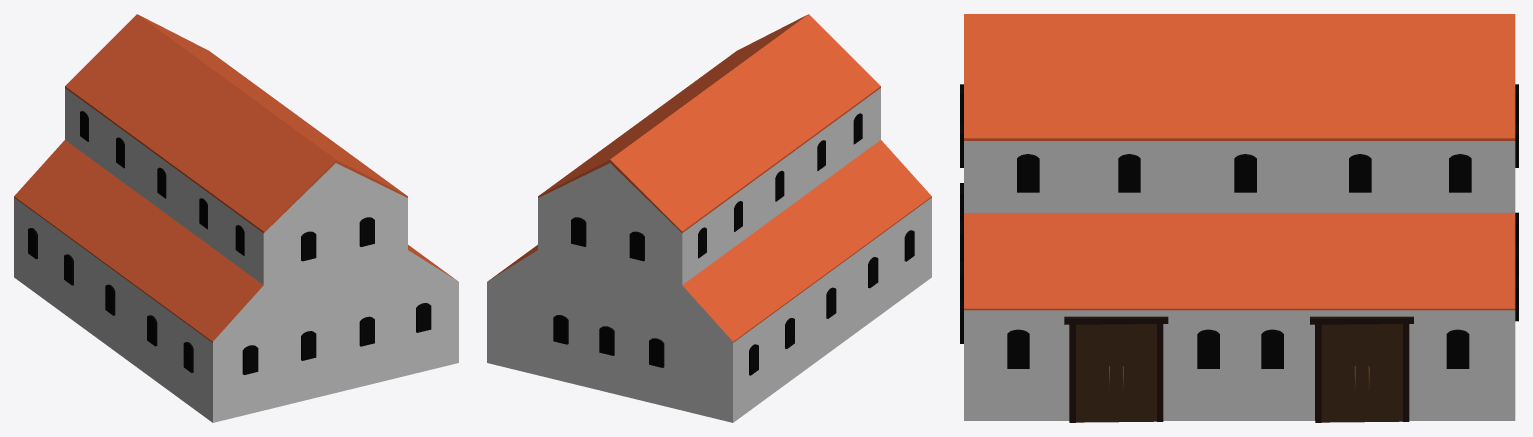
File: Roman10.fbx
3 views of the same model, side by side, from view 1: azimuth 30°, elevation 25°; view 2: azimuth 150°, elevation 25°; view 3: azimuth 270°, elevation 25° (orthographic). The views are drawn at different scales.
Visible parts, largest first — view 1: Cube.001, Cube.006, Cube, Cube.007, Cube.004, Cube.002, Cube.003; view 2: Cube.001, Cube.029, Cube.030, Cube.028, Cube.031, Cube.032; view 3: Cube.001, Cube.010, Cube.005, Cube.012, Cube.008, Cube.009, Cube.011, Cube.013, Cube.015, Cube.016, Cube.017, Cube.014.
Part boxes in pixels (x1,y1,x2,y2): Cube.001: (14,14,458,422); Cube.006: (242,345,258,374); Cube: (301,231,316,261); Cube.007: (416,303,431,332); Cube.004: (301,331,316,360); Cube.002: (359,217,374,246); Cube.003: (359,316,374,346); Cube.001: (487,14,931,422); Cube.029: (629,231,644,261); Cube.030: (599,326,614,355); Cube.028: (571,217,586,246); Cube.031: (649,338,664,367); Cube.032: (553,315,568,344); Cube.001: (964,14,1515,420); Cube.010: (1064,316,1168,422); Cube.005: (1310,316,1413,422); Cube.012: (1446,329,1469,368); Cube.008: (1007,329,1029,368); Cube.009: (1197,329,1219,368); Cube.011: (1261,329,1283,368); Cube.013: (1349,154,1371,192); Cube.015: (1017,154,1039,192); Cube.016: (1234,154,1256,192); Cube.017: (1449,154,1471,192); Cube.014: (1118,154,1140,192).
Size of the model in its own units: 1935 by 1684 by 2634.
